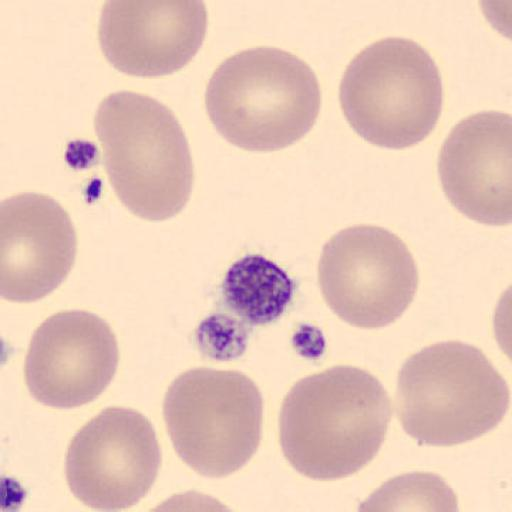Platelet: (214, 250, 302, 330), (192, 309, 255, 365)
RBC: (276, 362, 394, 484), (91, 88, 195, 225), (202, 43, 324, 154), (394, 337, 512, 449), (336, 35, 445, 153), (160, 364, 265, 481), (316, 222, 421, 331), (62, 404, 163, 511), (23, 307, 121, 411), (436, 107, 512, 228), (96, 0, 210, 80), (2, 190, 78, 304), (355, 468, 461, 512), (128, 488, 252, 512), (490, 279, 512, 380), (492, 285, 512, 362), (476, 0, 511, 42)
